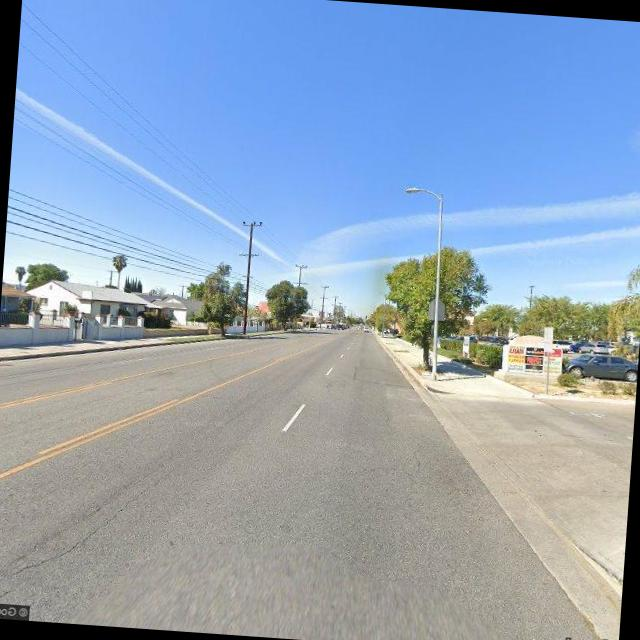pothole: (6, 431, 188, 588)
